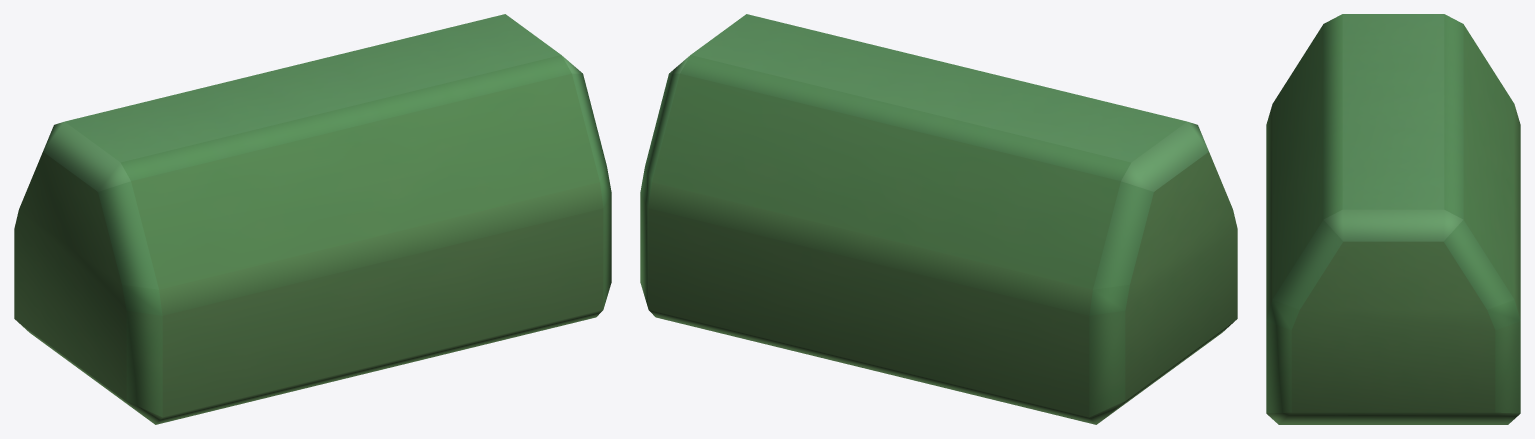
Rendered from border_straight.fbx.
3 renders of one model, left to right at view 1: azimuth 30°, elevation 25°; view 2: azimuth 150°, elevation 25°; view 3: azimuth 270°, elevation 25°, orthographic. The views are drawn at different scales.
Parts seen in each view (by area): view 1: border_straight; view 2: border_straight; view 3: border_straight.
Part boxes in pixels (left/top/right/bottom): border_straight: left=14, top=14, right=611, bottom=424; border_straight: left=640, top=14, right=1237, bottom=424; border_straight: left=1266, top=14, right=1520, bottom=424.
Bounding box in the file's own units: 100 × 46.65 × 50.
